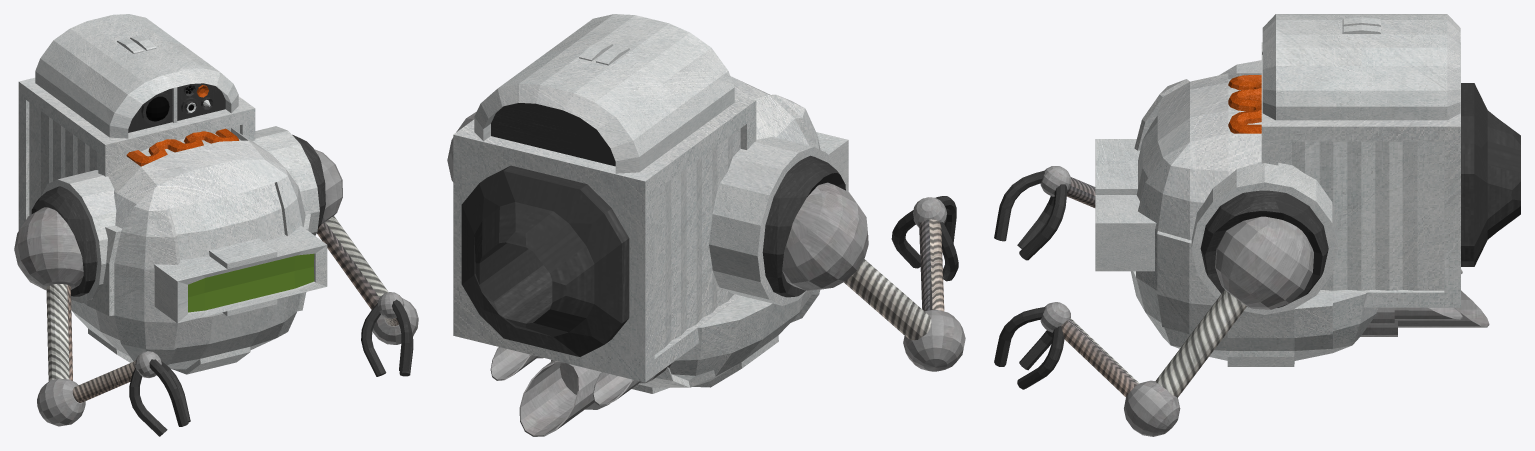
Rendered from Drone_done.glb.
The picture shows the model from 3 angles, left to right: view 1: azimuth 30°, elevation 25°; view 2: azimuth 150°, elevation 25°; view 3: azimuth 270°, elevation 25°; orthographic projection. The views are drawn at different scales.
Parts seen in each view (by area): view 1: Main, Hatch, Cube, Cargo, Cylinder, Shoulder, shoulder bone, Arm Base, Elbow, Finger 2, tubes, elbow bone (+4 smaller); view 2: Cargo, Hatch, Main, Cylinder, Shoulder, Arm Base, centre, shoulder bone, Elbow, elbow bone, side, Cube (+3 smaller); view 3: Cargo, Main, Hatch, Shoulder, Cube, Cylinder, Arm Base, shoulder bone, elbow bone, Elbow, Finger 2, tubes (+5 smaller).
Part boxes in pixels (left/top/right/bottom): Main: left=71, top=128, right=310, bottom=374; Hatch: left=35, top=14, right=238, bottom=138; Cube: left=154, top=225, right=327, bottom=323; Cargo: left=18, top=77, right=255, bottom=230; Cylinder: left=41, top=126, right=319, bottom=303; Shoulder: left=14, top=149, right=342, bottom=290; shoulder bone: left=46, top=216, right=388, bottom=381; Arm Base: left=31, top=134, right=325, bottom=296; Elbow: left=37, top=298, right=418, bottom=426; Finger 2: left=149, top=299, right=411, bottom=426; tubes: left=126, top=128, right=239, bottom=166; elbow bone: left=72, top=317, right=398, bottom=402; Cargo: left=453, top=95, right=756, bottom=382; Hatch: left=474, top=14, right=734, bottom=173; Main: left=632, top=76, right=825, bottom=393; Cylinder: left=709, top=137, right=834, bottom=305; Shoulder: left=447, top=112, right=868, bottom=290; Arm Base: left=762, top=155, right=845, bottom=297; centre: left=519, top=360, right=600, bottom=436; shoulder bone: left=844, top=259, right=931, bottom=340; Elbow: left=903, top=310, right=965, bottom=371; elbow bone: left=919, top=219, right=944, bottom=311; side: left=490, top=347, right=640, bottom=405; Cube: left=816, top=132, right=848, bottom=191; Cargo: left=1261, top=42, right=1520, bottom=307; Main: left=1131, top=73, right=1377, bottom=366; Hatch: left=1262, top=14, right=1460, bottom=120; Shoulder: left=1215, top=216, right=1313, bottom=309; Cube: left=1095, top=139, right=1156, bottom=271; Cylinder: left=1191, top=60, right=1337, bottom=314; Arm Base: left=1200, top=190, right=1328, bottom=307; shoulder bone: left=1155, top=290, right=1246, bottom=397; elbow bone: left=1061, top=177, right=1139, bottom=397; Elbow: left=1124, top=380, right=1180, bottom=436; Finger 2: left=994, top=170, right=1045, bottom=366; tubes: left=1228, top=75, right=1261, bottom=133.
Bounding box in the file's own units: 37.5 × 26.54 × 39.61.
8 materials, 8 textured.
